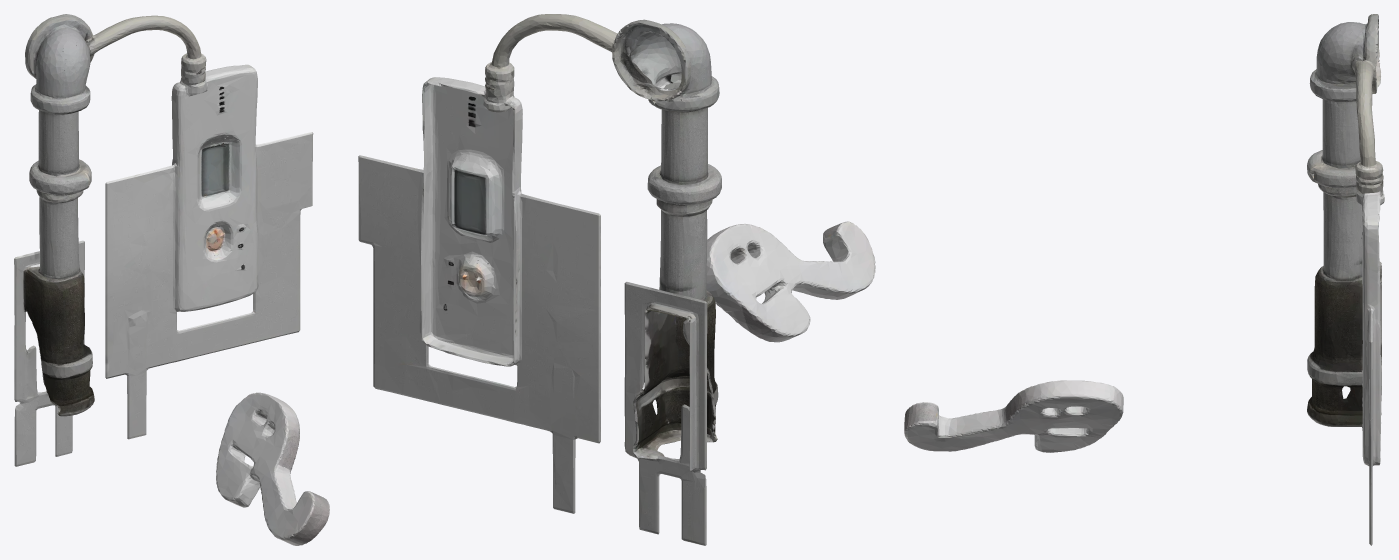
Rendered from chest (90).glb.
The picture shows the model from 3 angles, left to right: view 1: azimuth 30°, elevation 25°; view 2: azimuth 150°, elevation 25°; view 3: azimuth 270°, elevation 25°; orthographic projection. The views are drawn at different scales.
Parts seen in each view (by area): view 1: Hy21_Mesh.obj; view 2: Hy21_Mesh.obj; view 3: Hy21_Mesh.obj.
Part boxes in pixels (bbox=[...]): Hy21_Mesh.obj: bbox=[14, 14, 329, 545]; Hy21_Mesh.obj: bbox=[358, 14, 875, 545]; Hy21_Mesh.obj: bbox=[904, 14, 1384, 545].
Size of the model in its own units: 1.4 by 1.96 by 1.8.
1 material, 1 textured.
